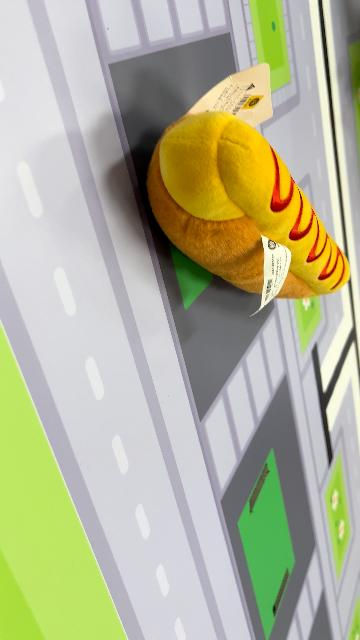hotdog: (146, 109, 352, 304)
